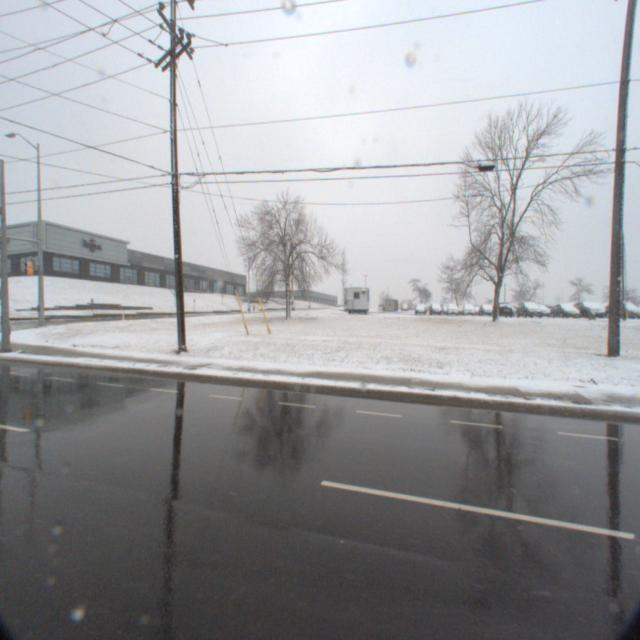Car: (544, 298, 578, 317)
